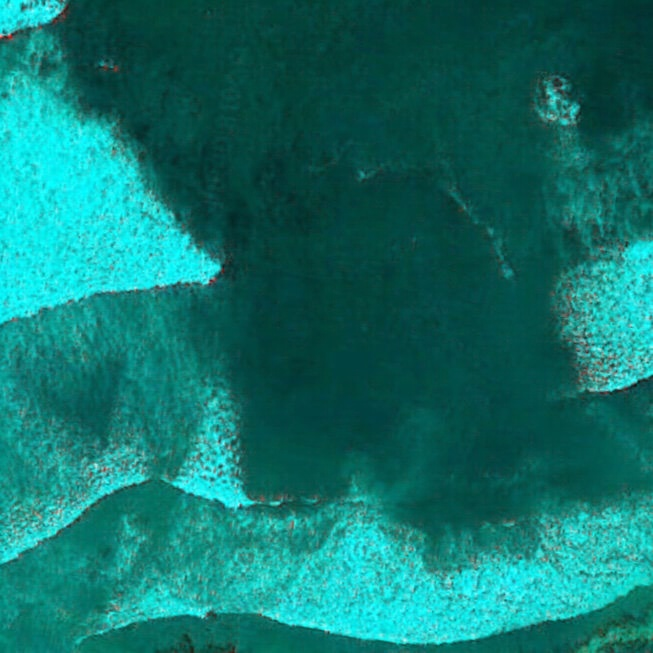rip_current: (140, 92, 601, 534)
